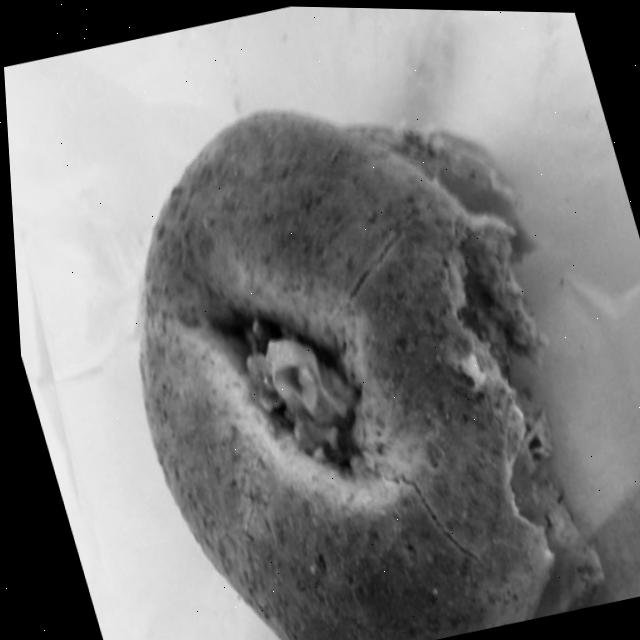面包点心: (29, 45, 640, 640)
